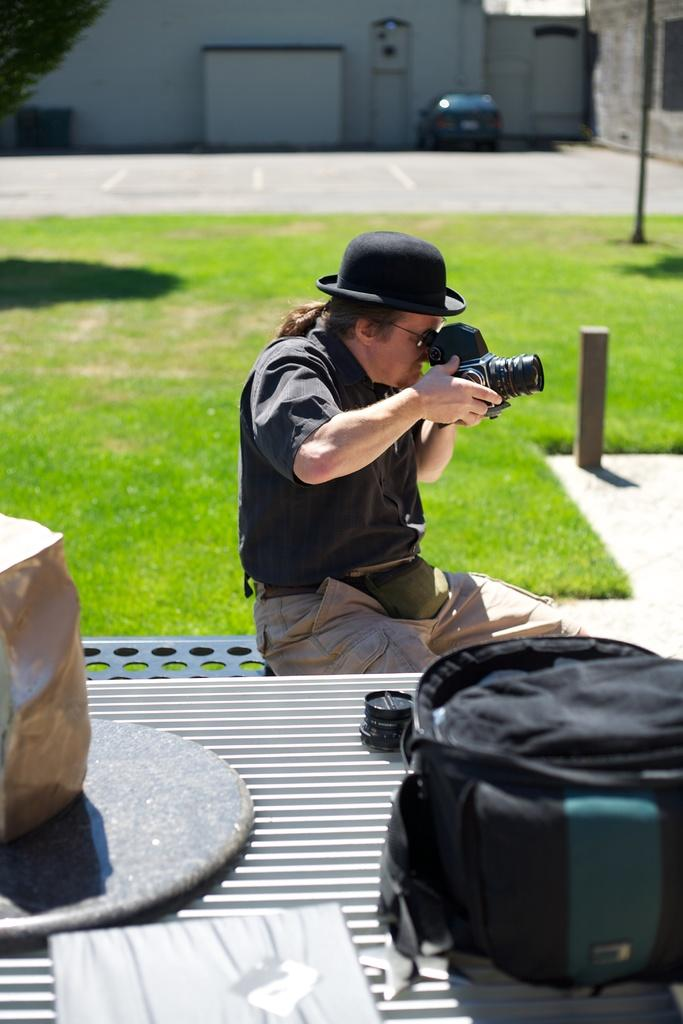Luggage-and-bags: (380, 636, 663, 999)
